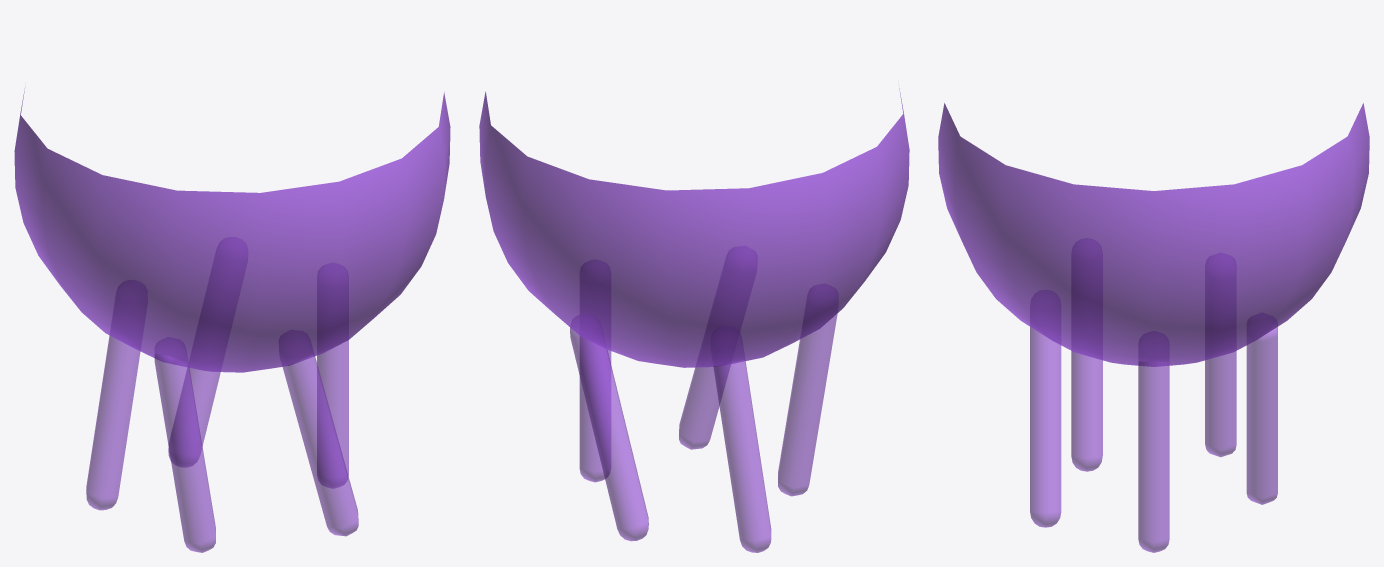
File: creature-arts.glb
The picture shows the model from 3 angles, left to right: view 1: azimuth 30°, elevation 25°; view 2: azimuth 150°, elevation 25°; view 3: azimuth 270°, elevation 25°; orthographic projection.
Bounding box in the file's own units: 0.7582 × 0.7765 × 0.7582.
